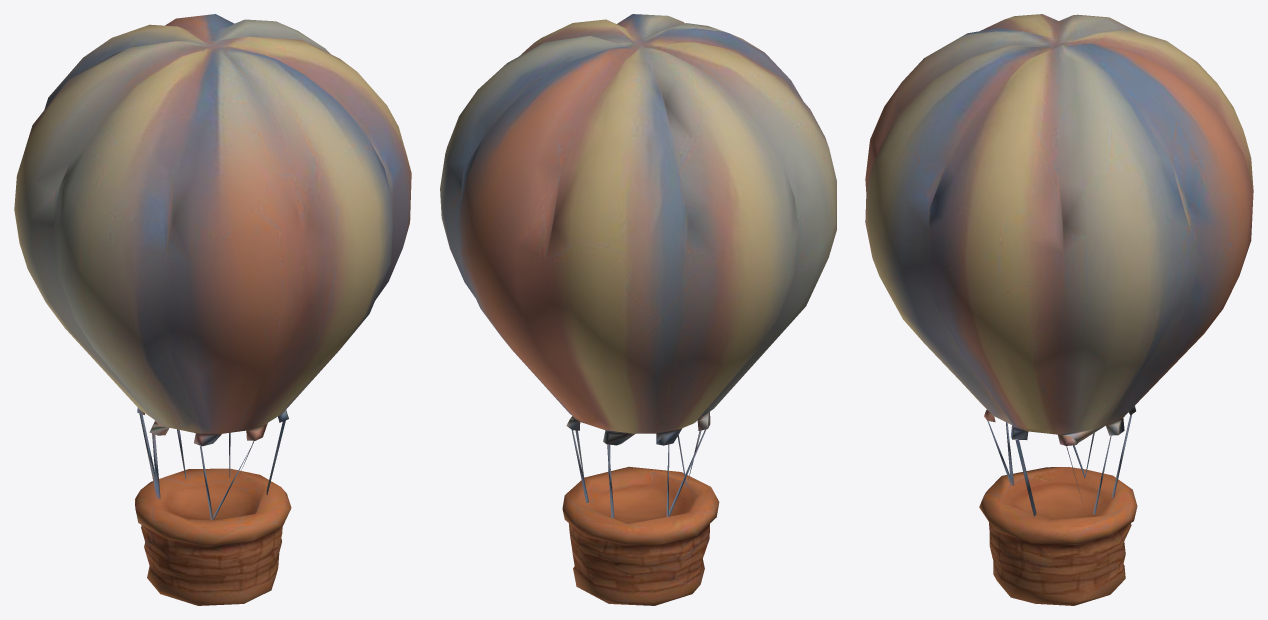
The model's file is balloon.glb.
3 renders of one model, left to right at view 1: azimuth 30°, elevation 25°; view 2: azimuth 150°, elevation 25°; view 3: azimuth 270°, elevation 25°, orthographic.
Visible parts, largest first — view 1: tripo_node_b4e2f01e-5fd2-47b6-983b-bf5a203b45aa; view 2: tripo_node_b4e2f01e-5fd2-47b6-983b-bf5a203b45aa; view 3: tripo_node_b4e2f01e-5fd2-47b6-983b-bf5a203b45aa.
Boxes of the visible parts, x1,y1,x2,y2 form: tripo_node_b4e2f01e-5fd2-47b6-983b-bf5a203b45aa: [14, 14, 411, 605]; tripo_node_b4e2f01e-5fd2-47b6-983b-bf5a203b45aa: [440, 14, 836, 605]; tripo_node_b4e2f01e-5fd2-47b6-983b-bf5a203b45aa: [865, 14, 1253, 605].
Size of the model in its own units: 0.6465 by 0.998 by 0.6465.
1 material, 1 textured.
